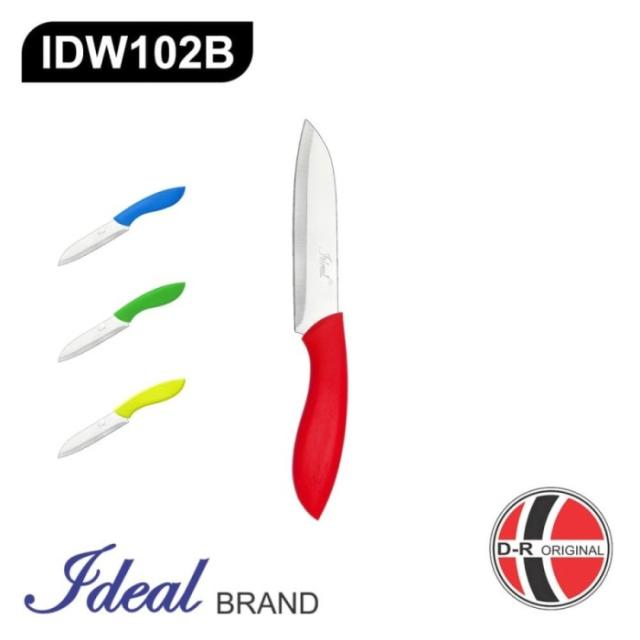Pisau: (269, 106, 369, 545), (27, 349, 203, 483), (46, 157, 205, 294), (38, 260, 196, 395)
